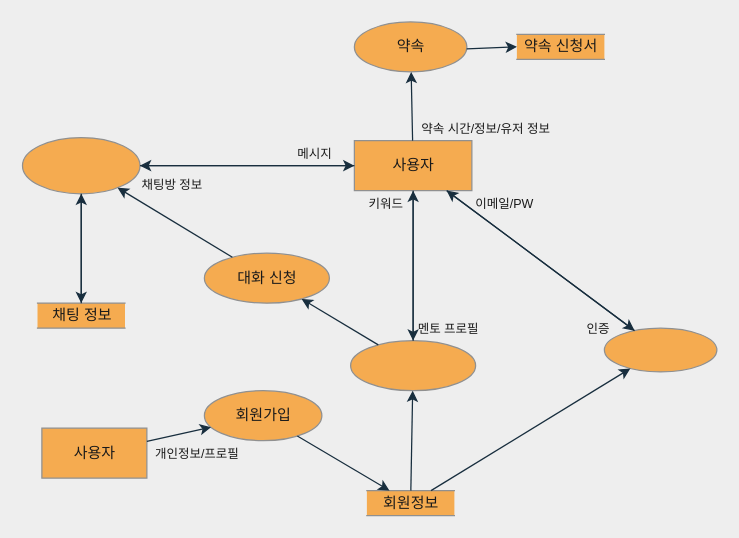
Image size: 739x538. Some labels were removed from this diagram. The shapes that lost their labels are listed below. From the top down, each one's centre as x and y in pixels, then its label:
point 80,165: 채팅
point 412,365: 멘토 검색
point 660,349: 로그인
